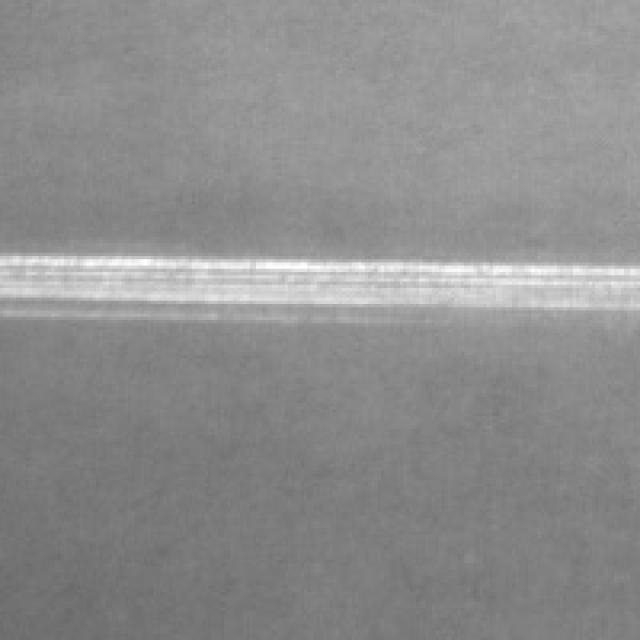scratches: (0, 246, 634, 317)
